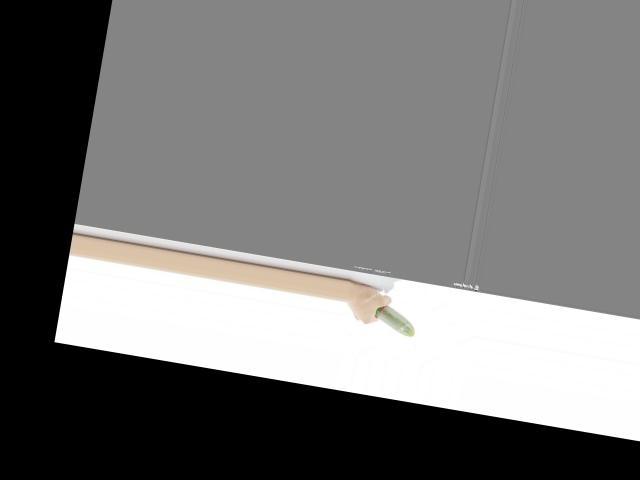cucumber: (372, 303, 418, 337)
